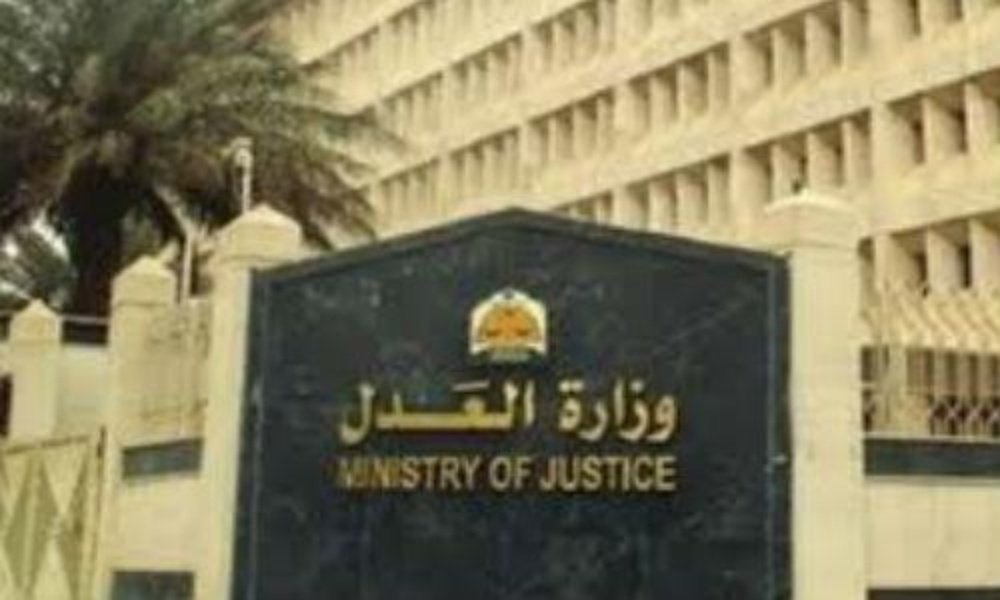text: (353, 375, 368, 451), (369, 375, 384, 451), (385, 375, 400, 451), (401, 375, 416, 451), (417, 375, 432, 451), (433, 375, 448, 451), (449, 375, 464, 451), (465, 375, 480, 451), (481, 375, 496, 451), (497, 375, 512, 451), (513, 375, 528, 451), (561, 373, 576, 447), (577, 373, 592, 447), (593, 373, 608, 447), (609, 373, 624, 447), (625, 373, 640, 447), (641, 373, 656, 447), (657, 373, 672, 447), (339, 375, 352, 451), (529, 375, 539, 451), (465, 453, 481, 495), (551, 373, 560, 447), (337, 453, 352, 495), (353, 453, 368, 495), (369, 453, 384, 495), (385, 453, 400, 495), (401, 453, 416, 495), (417, 453, 432, 495), (433, 453, 448, 495), (449, 453, 464, 495), (497, 453, 512, 495), (513, 453, 528, 495), (545, 453, 560, 495), (561, 453, 576, 495), (577, 453, 592, 495), (593, 453, 608, 495), (609, 453, 624, 495), (625, 453, 640, 495), (641, 453, 656, 495), (657, 453, 672, 495), (673, 373, 679, 447), (487, 453, 496, 495), (535, 453, 544, 495), (529, 453, 535, 495), (673, 453, 679, 495), (331, 453, 336, 495)
